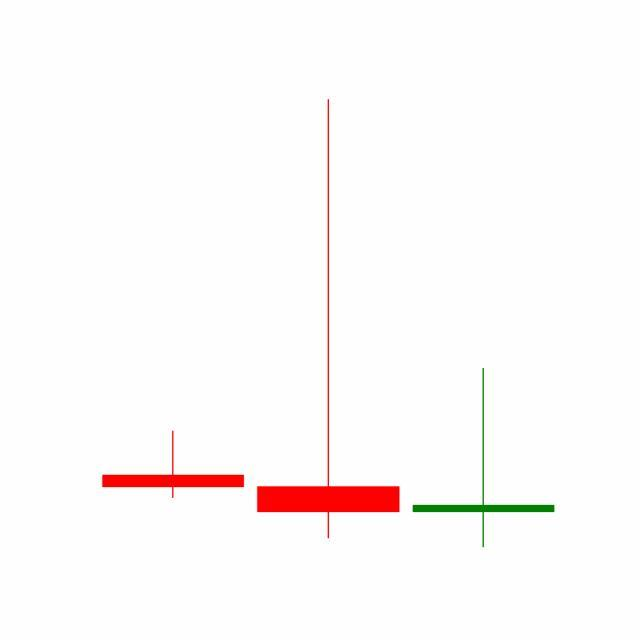Spinning Top: (406, 366, 562, 551)
